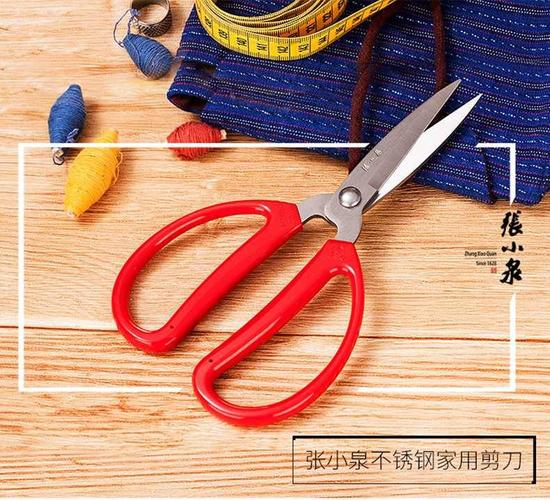scissor: (86, 78, 477, 427)
